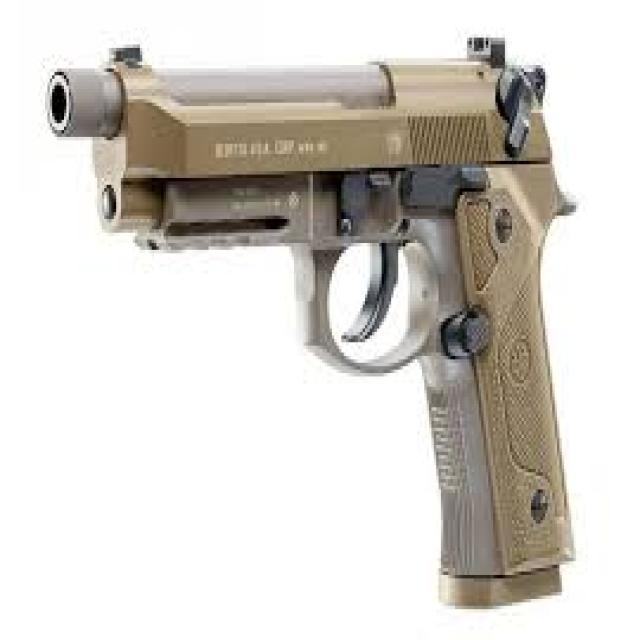pistol: (41, 27, 583, 616)
